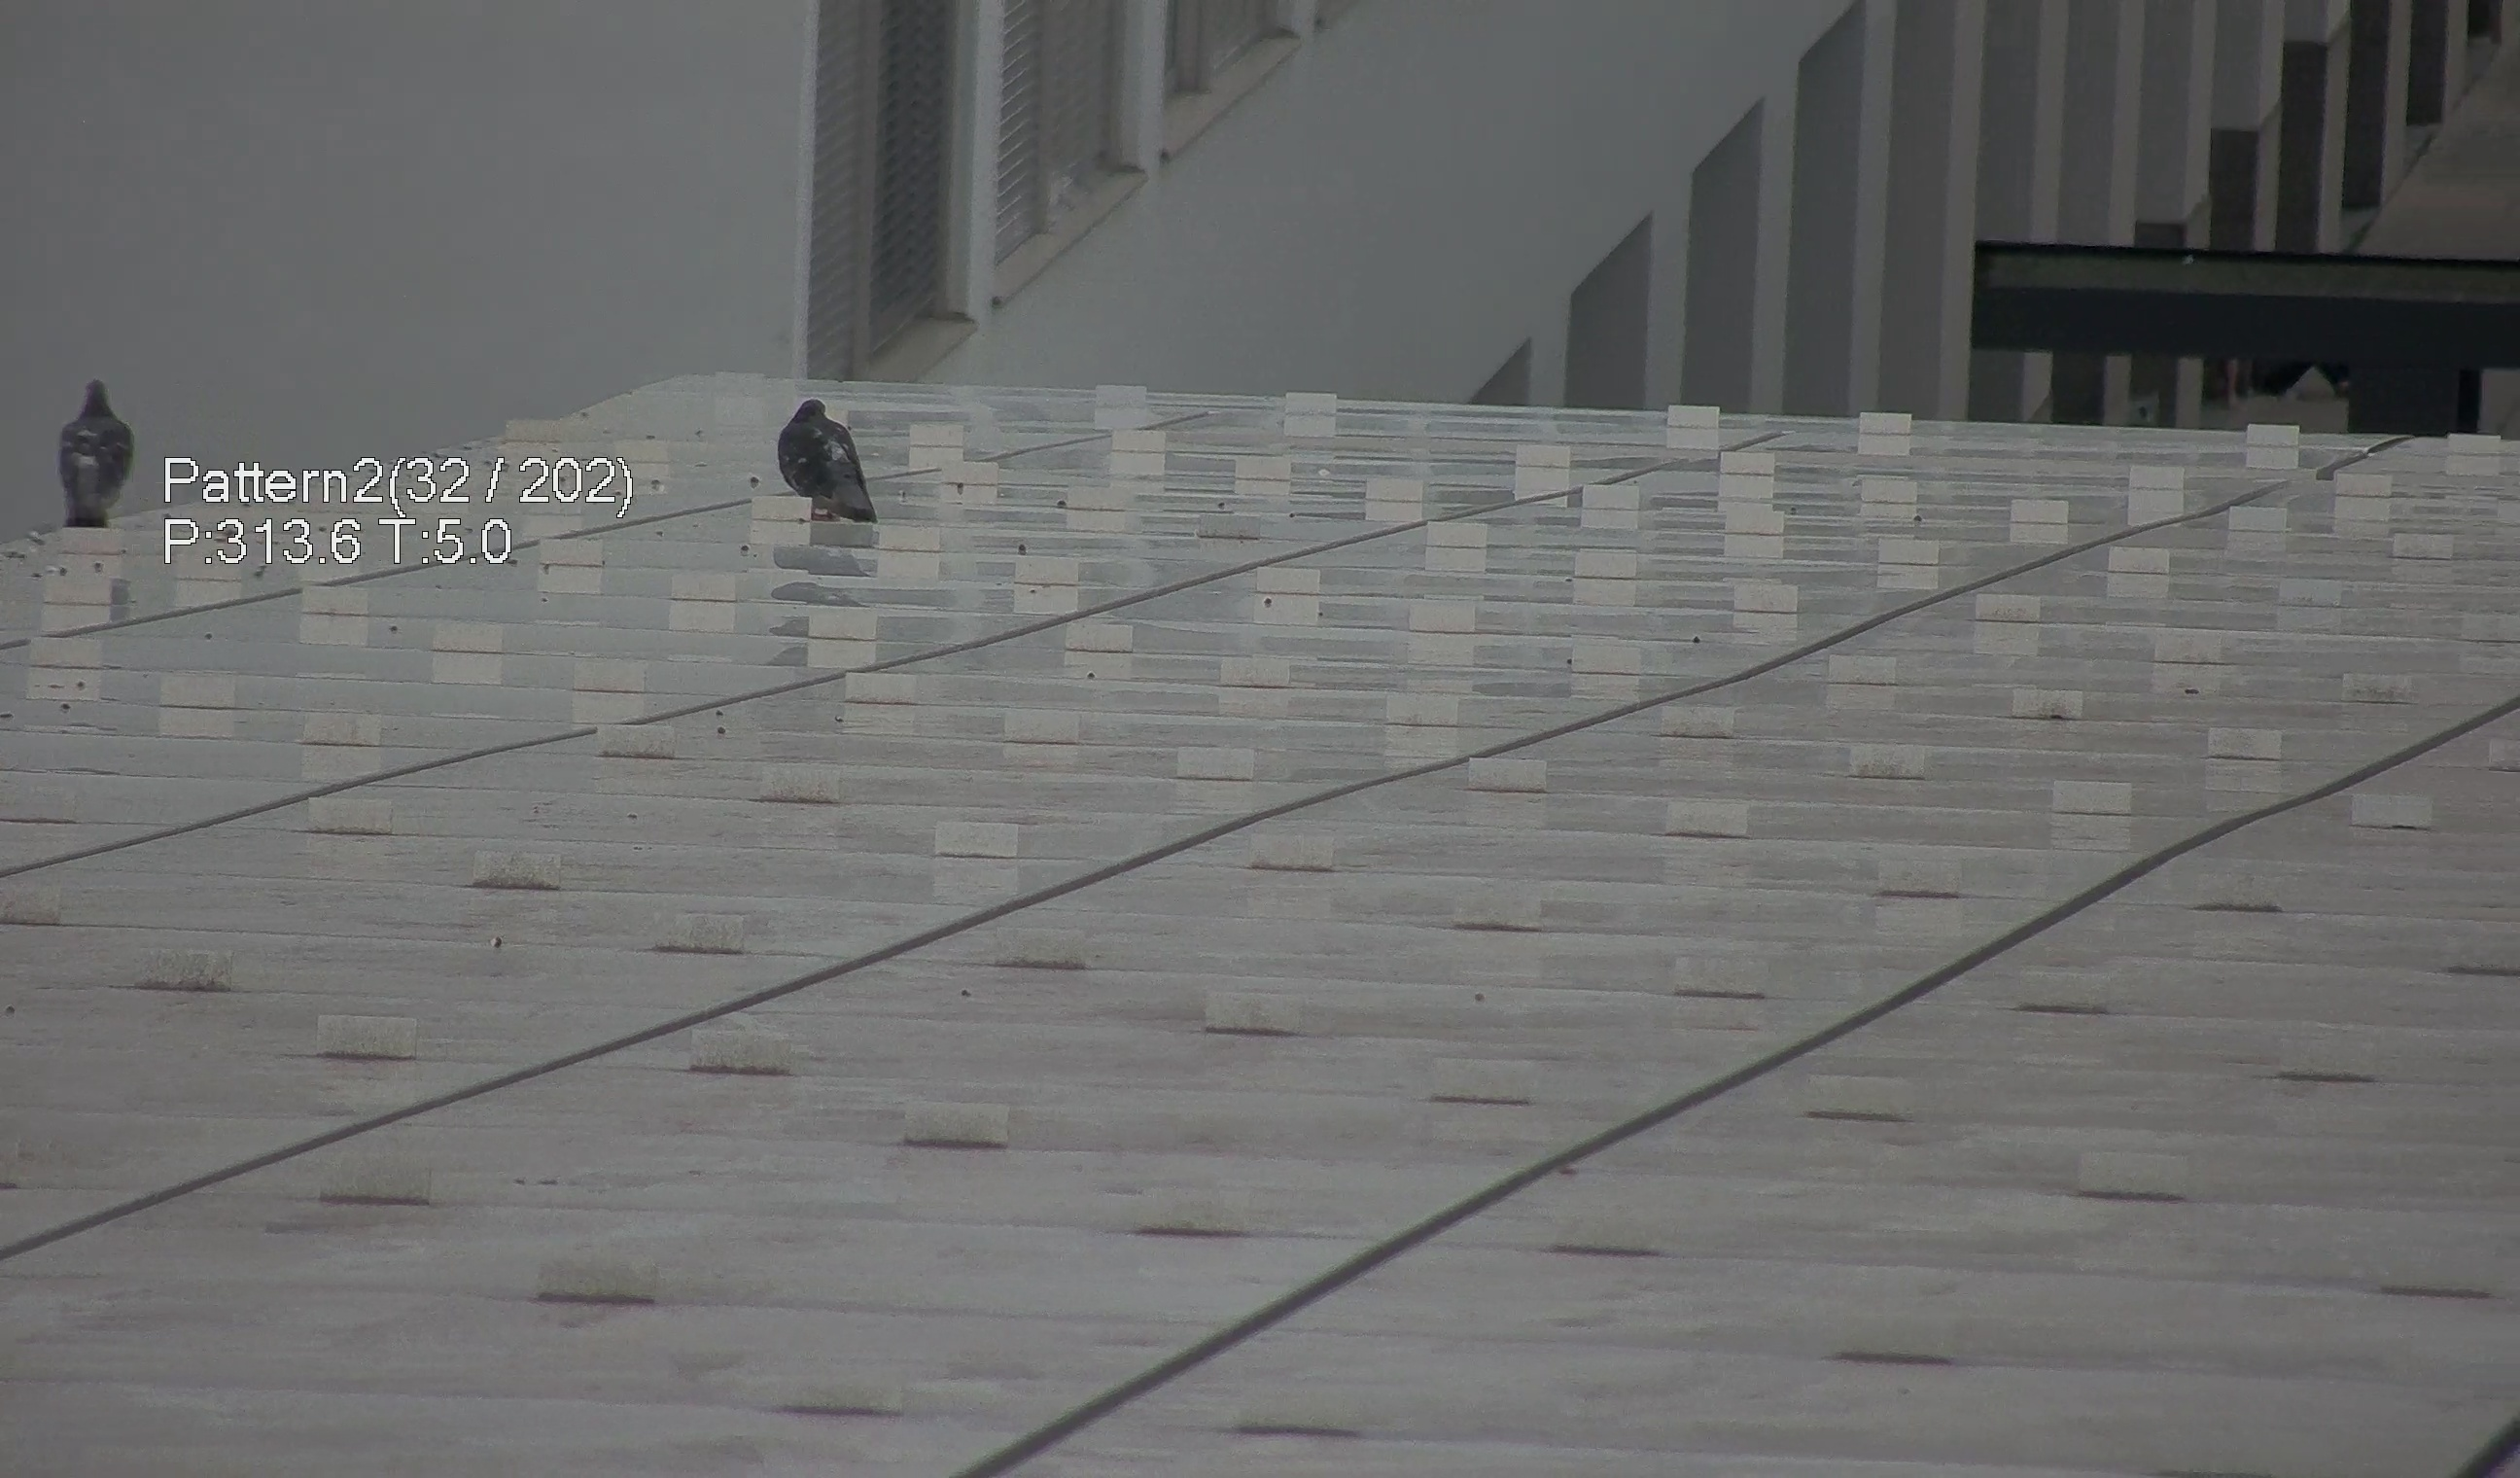Pigeon: (42, 361, 151, 540), (763, 384, 876, 528)
